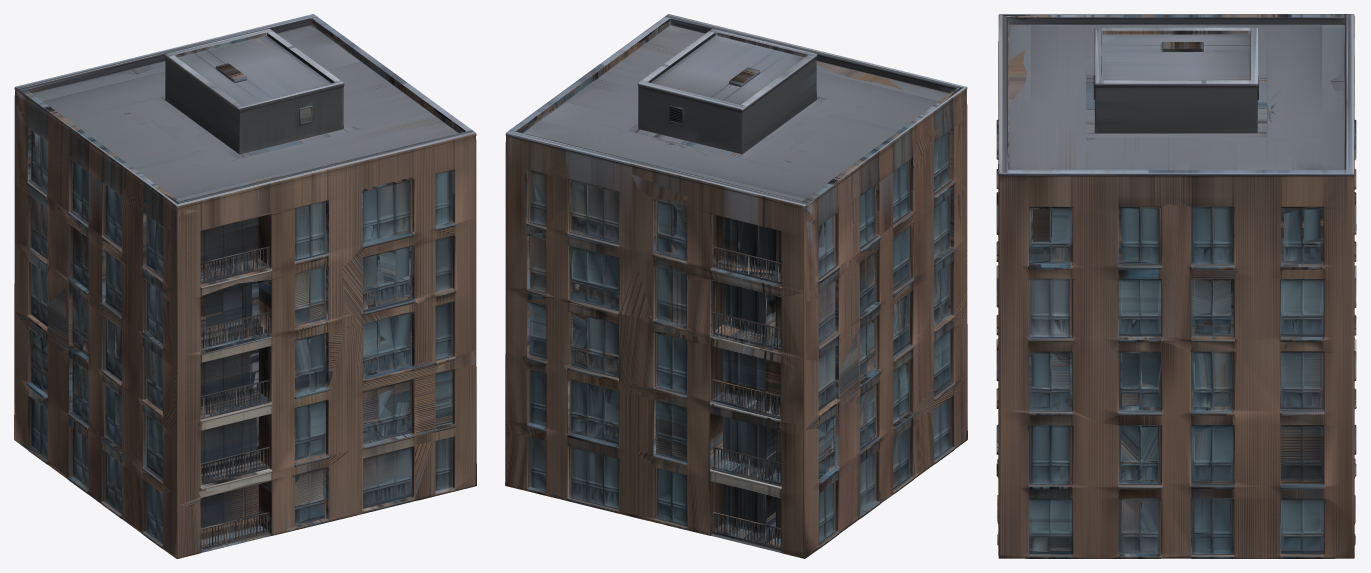
Rendered from brown_building.glb.
The picture shows the model from 3 angles, left to right: view 1: azimuth 30°, elevation 25°; view 2: azimuth 150°, elevation 25°; view 3: azimuth 270°, elevation 25°; orthographic projection. The views are drawn at different scales.
Visible parts, largest first — view 1: node_0; view 2: node_0; view 3: node_0.
Part boxes in pixels (x1,y1,x2,y2): node_0: (14, 14, 476, 558); node_0: (505, 14, 967, 558); node_0: (996, 14, 1356, 558).
Bounding box in the file's own units: 0.6555 × 0.8086 × 0.6161.
Materials: 1 (1 with a texture image).
